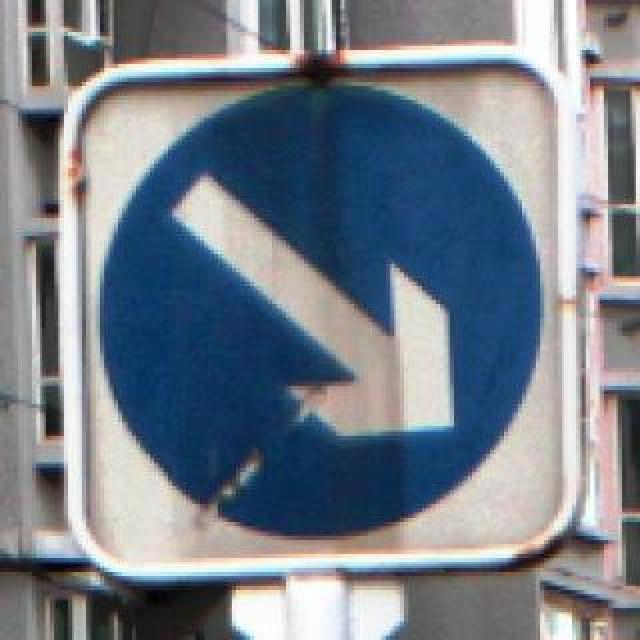keep right: (96, 76, 540, 536)
